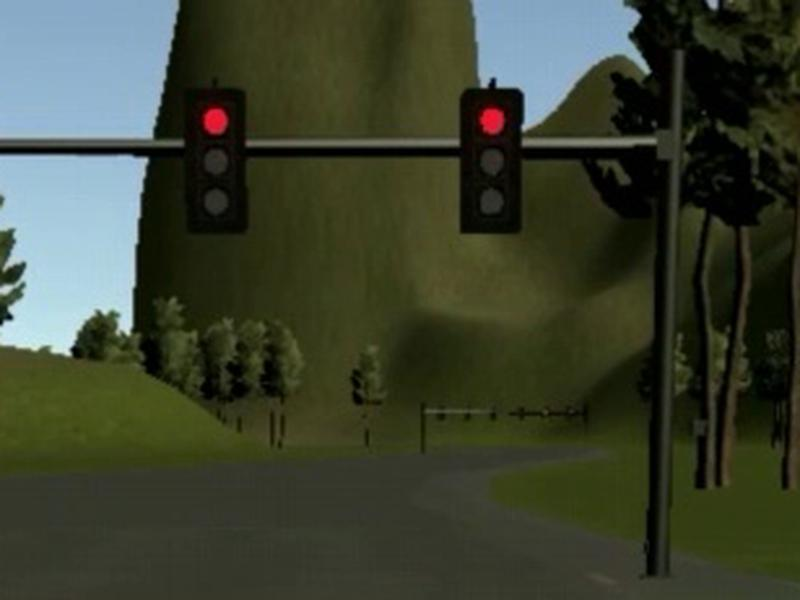Red: (462, 88, 520, 232), (189, 89, 245, 232)
